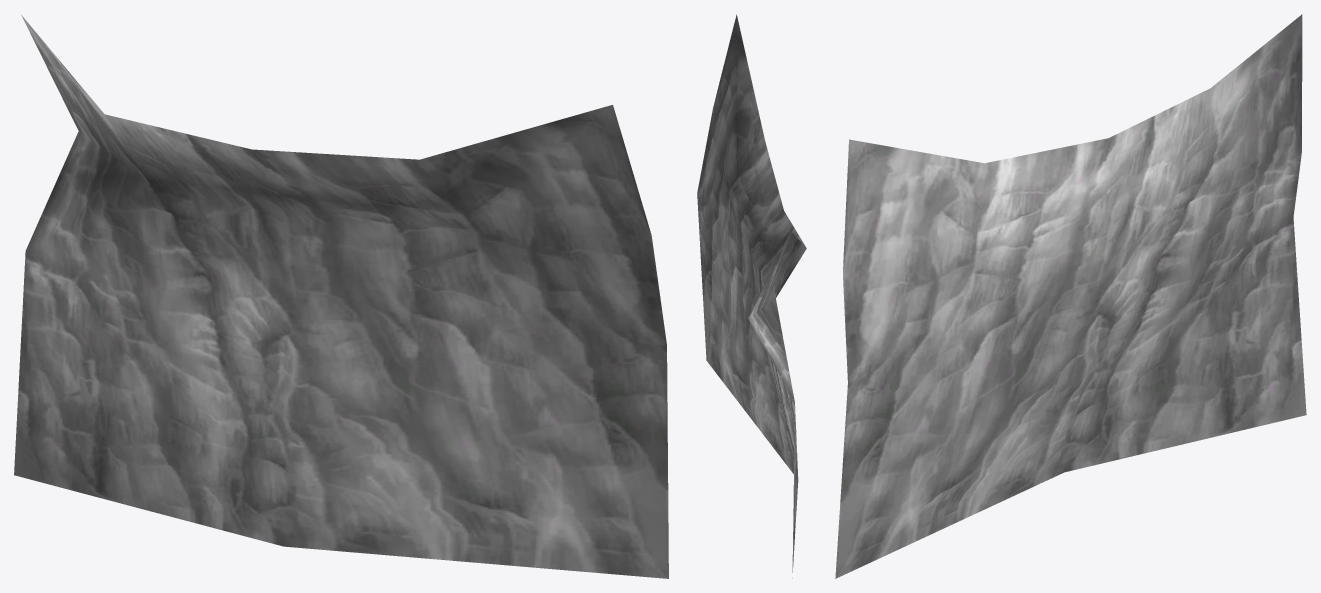
File: SWORDLIGHT20_PS-AREA03_173.fbx
3 renders of one model, left to right at view 1: azimuth 30°, elevation 25°; view 2: azimuth 150°, elevation 25°; view 3: azimuth 270°, elevation 25°, orthographic. The views are drawn at different scales.
Visible parts, largest first — view 1: SWORDLIGHT20_PS-AREA03_173; view 2: SWORDLIGHT20_PS-AREA03_173; view 3: SWORDLIGHT20_PS-AREA03_173.
Boxes of the visible parts, x1=… form: SWORDLIGHT20_PS-AREA03_173: x1=14, y1=15, x2=668, y2=578; SWORDLIGHT20_PS-AREA03_173: x1=697, y1=14, x2=806, y2=578; SWORDLIGHT20_PS-AREA03_173: x1=835, y1=14, x2=1306, y2=578.
Size of the model in its own units: 45359 by 53562 by 54385.
1 material, 1 textured.
